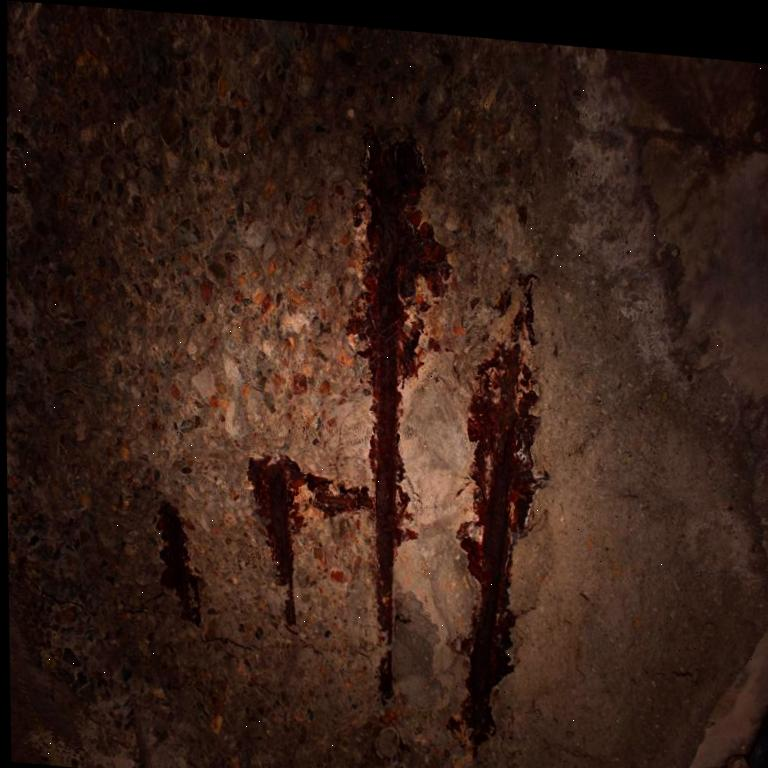exposed_rebar: (247, 132, 450, 702), (458, 275, 541, 747), (157, 503, 200, 623)
spalling: (8, 1, 548, 768)
